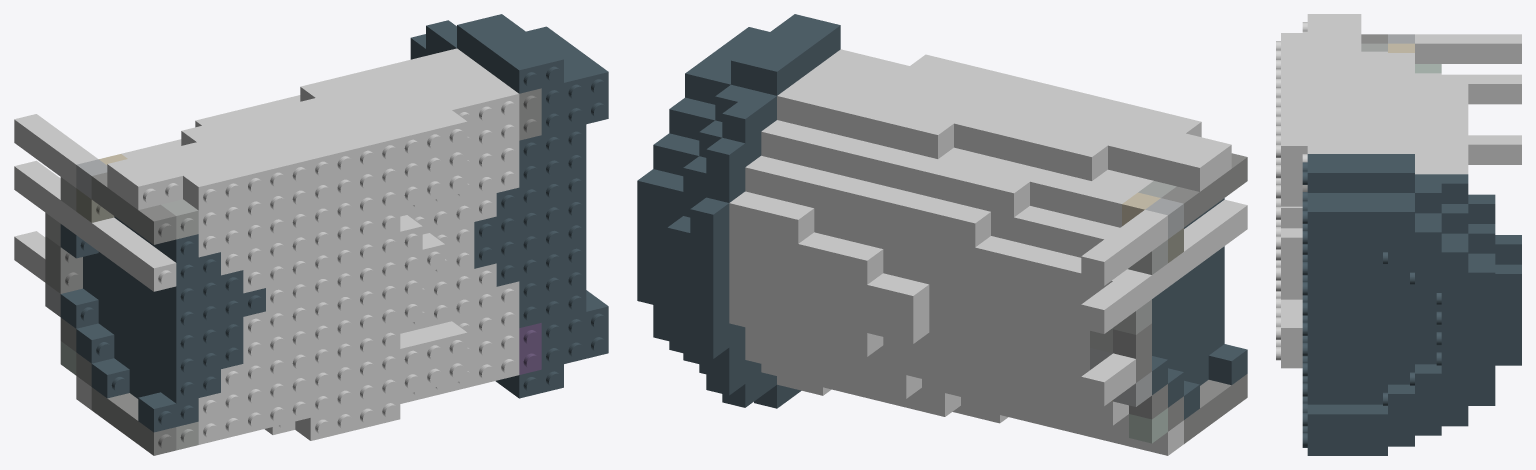
Rendered from full.glb.
3 renders of one model, left to right at view 1: azimuth 30°, elevation 25°; view 2: azimuth 150°, elevation 25°; view 3: azimuth 270°, elevation 25°, orthographic. The views are drawn at different scales.
Parts seen in each view (by area): view 1: world; view 2: world; view 3: world.
Part boxes in pixels (<box>): world: <box>14,14,608,455</box>; world: <box>637,14,1247,455</box>; world: <box>1276,14,1521,455</box>.
Bounding box in the file's own units: 168 × 112 × 88.2.
